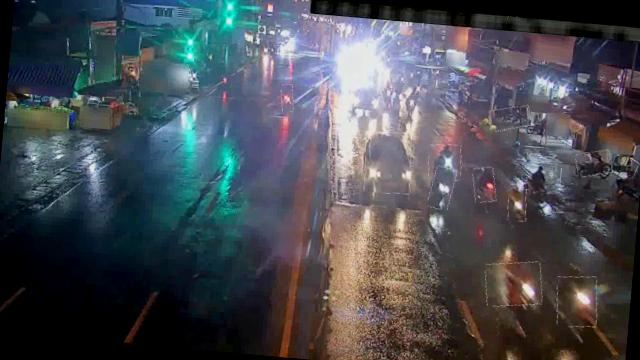Bike: (483, 260, 544, 310), (554, 275, 599, 329), (426, 143, 462, 182), (528, 162, 562, 200), (488, 104, 532, 133), (428, 166, 455, 210), (574, 149, 612, 179), (471, 166, 497, 203), (506, 184, 527, 222), (406, 89, 420, 118), (280, 84, 294, 112)
Car: (362, 130, 413, 195)
